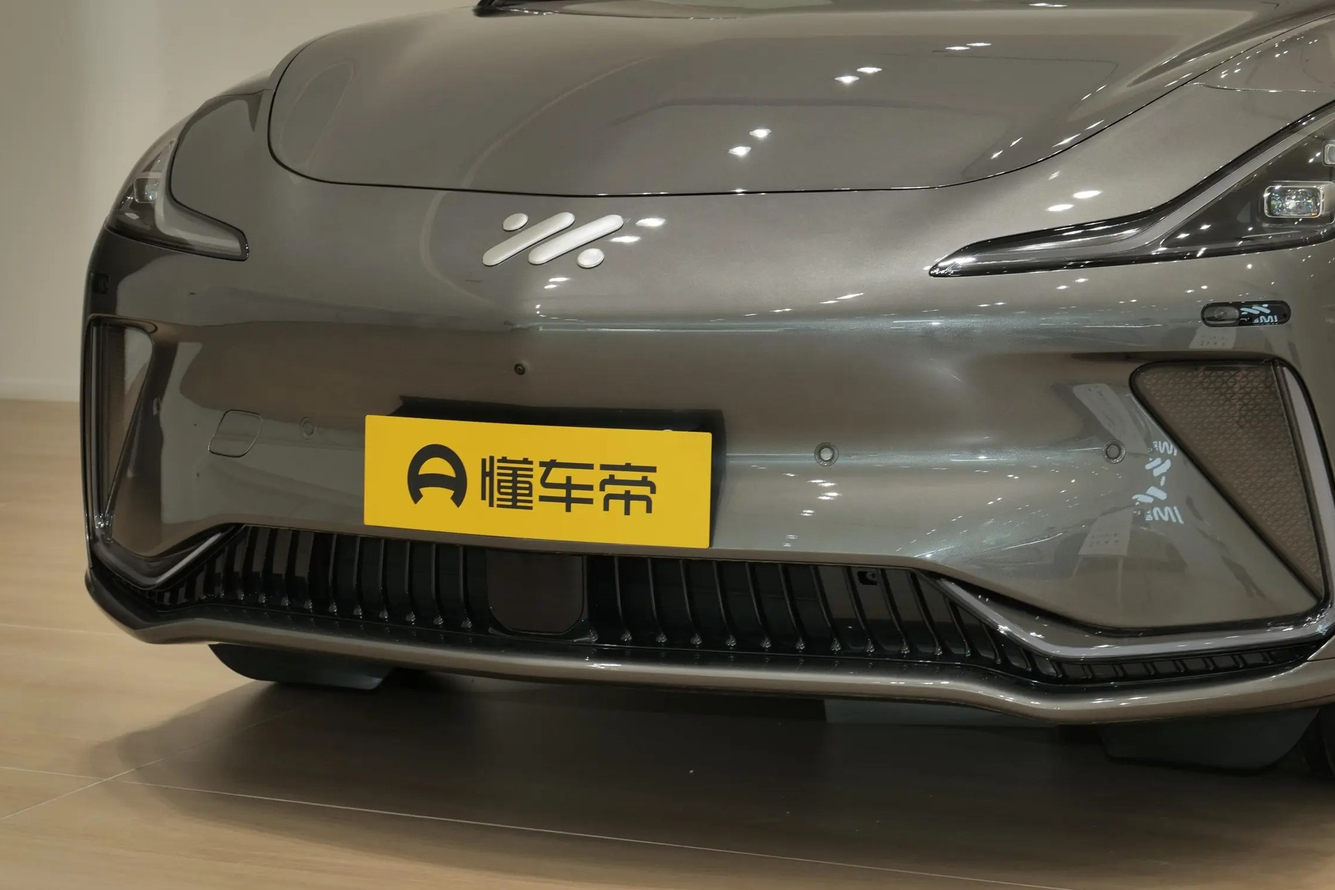IM: (483, 212, 624, 267)
